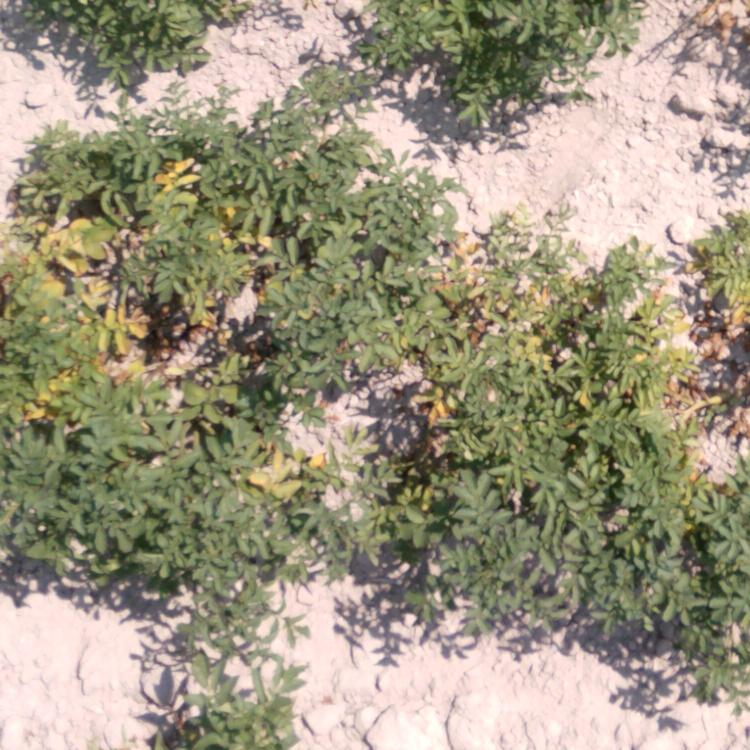healthy: (478, 425, 660, 619), (13, 439, 215, 587), (372, 1, 595, 111), (282, 107, 413, 252), (156, 646, 290, 741), (62, 1, 219, 70), (696, 483, 746, 649)
stressed: (499, 263, 696, 404), (8, 221, 149, 408), (157, 153, 264, 382), (233, 419, 339, 557), (377, 394, 468, 528), (404, 261, 480, 370), (272, 272, 374, 333), (702, 224, 750, 332)
